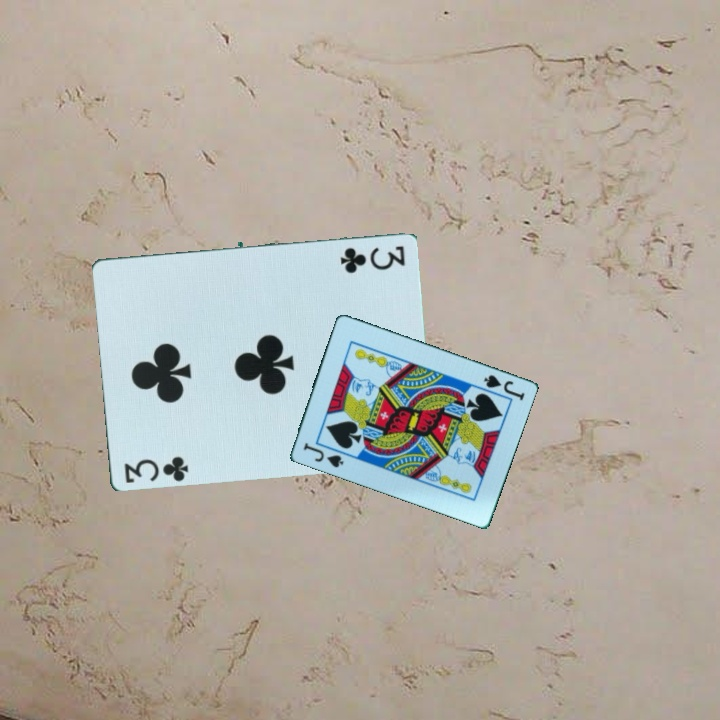3c: (120, 453, 191, 486), (336, 242, 408, 269)
Js: (479, 371, 527, 403), (299, 439, 346, 471)
